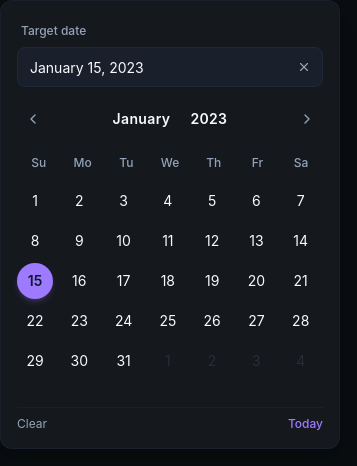
Calendar Component › switches to months view and selects a month
The width and height of the screenshot is (357, 466).
Click Month name in header (January)
Click the button "January". click: (142, 119)
box: [105,107,178,131]
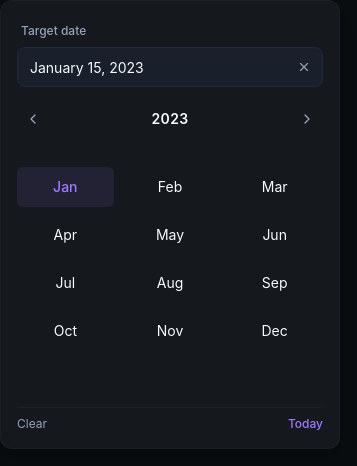
Now the button "Jun" is shown
Select June
Click the button "Jun". click: (275, 235)
box: [226,215,323,255]
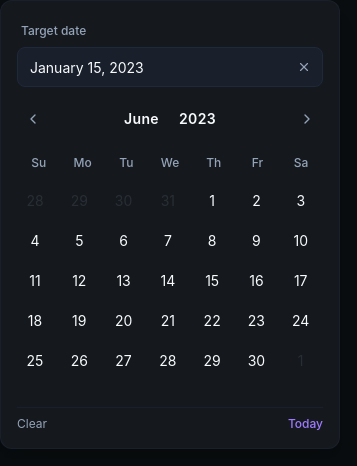
Expected: the button "2023" is shown, [171,107,224,131]
Now the button "June" is shown, box [116,107,167,131]
